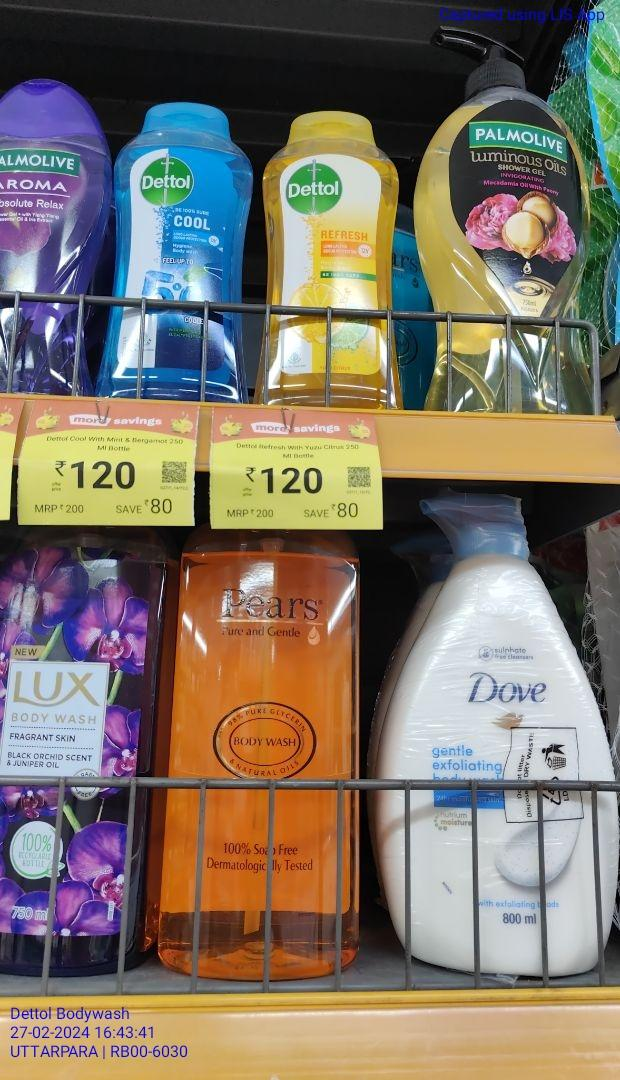Dettol_Bodywash_Cool: (115, 95, 252, 409)
Dettol_Bodywash_Refresh: (264, 109, 404, 410)
Palmolive_Aroma_Relax_250ML: (2, 68, 102, 398)
